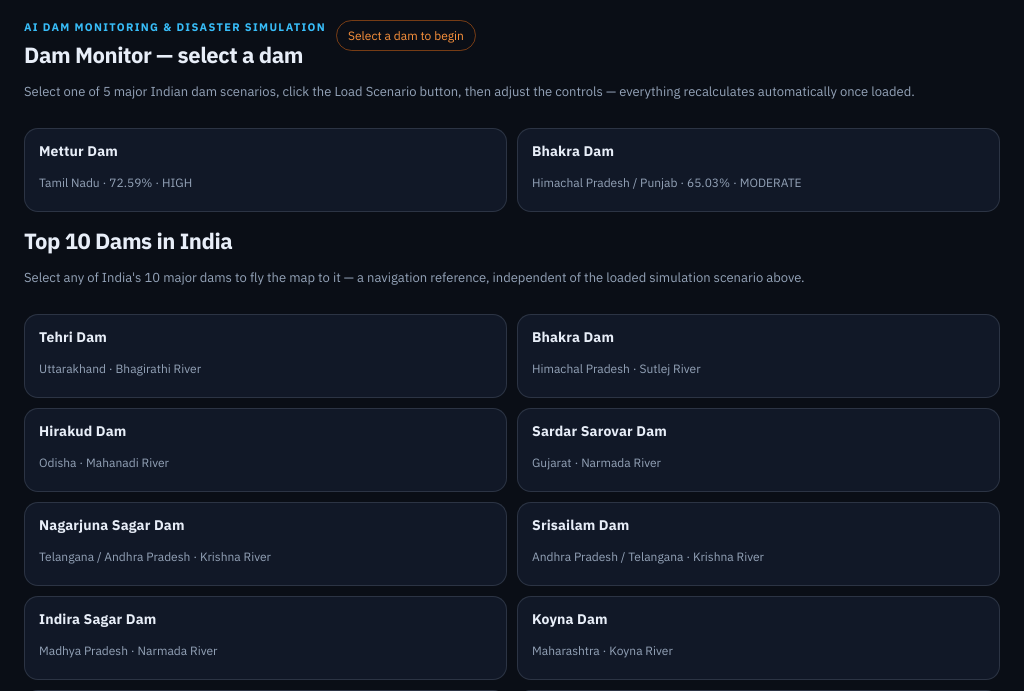
Test: DamMonitor › select -> LOAD SCENARIO -> ready populates the full workspace, never faking the % label
The image size is (1024, 691).
Click the 1st text "Mettur Dam".
click(78, 151)  # box [39,142,118,160]
(page scrolled)
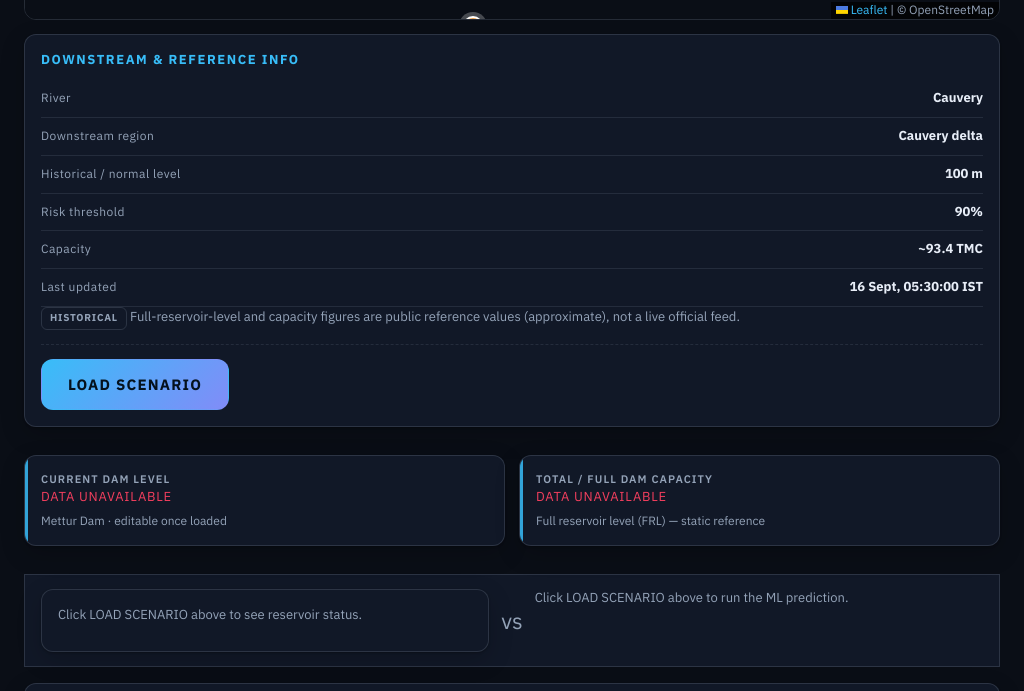
Click the button "LOAD SCENARIO".
click(135, 384)  # box [41,359,229,410]
(page scrolled)
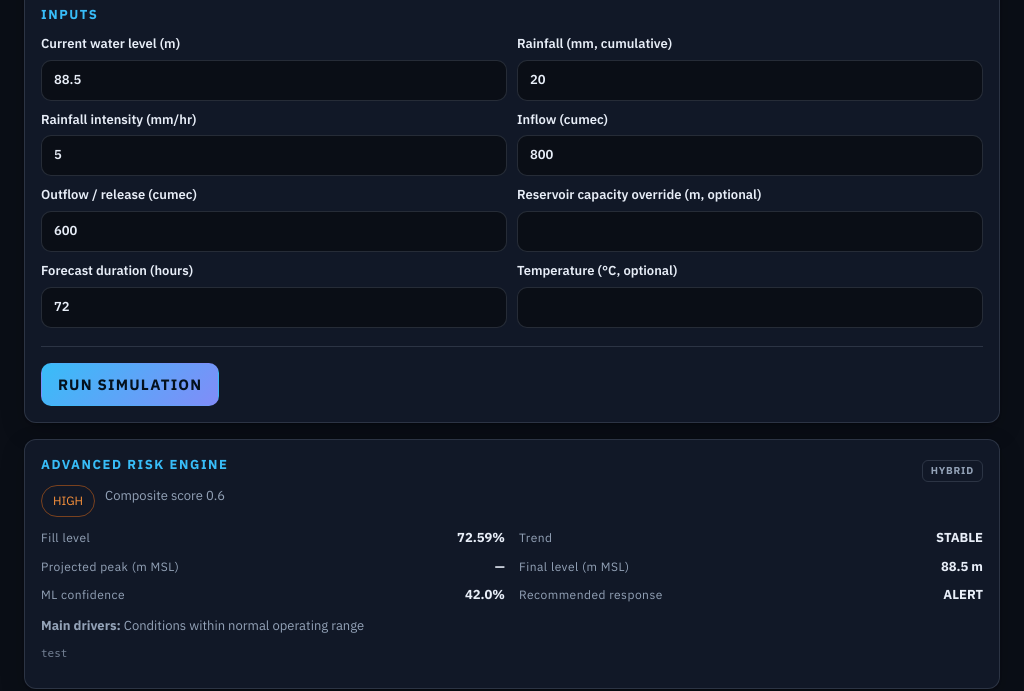
Expected: the button "RUN SIMULATION" is enabled, [41,363,219,406]
